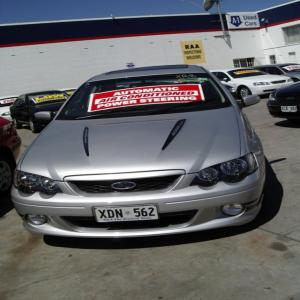Vehicle-registration-plate: (96, 207, 161, 225), (281, 106, 298, 113)
